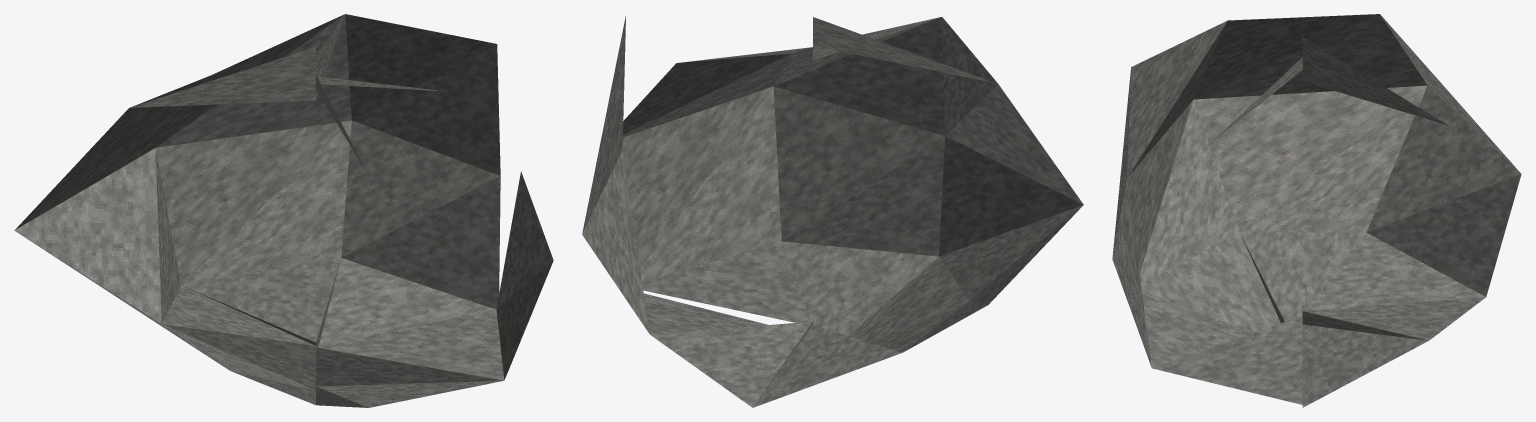
File: rock_02.gltf
3 renders of one model, left to right at view 1: azimuth 30°, elevation 25°; view 2: azimuth 150°, elevation 25°; view 3: azimuth 270°, elevation 25°, orthographic. The views are drawn at different scales.
Visible parts, largest first — view 1: rock_02; view 2: rock_02; view 3: rock_02.
Part boxes in pixels (bbox=[...]): rock_02: bbox=[14, 14, 553, 407]; rock_02: bbox=[582, 16, 1083, 407]; rock_02: bbox=[1112, 14, 1521, 407].
Bounding box in the file's own units: 0.9726 × 0.7554 × 0.8205.
1 material, 1 textured.
